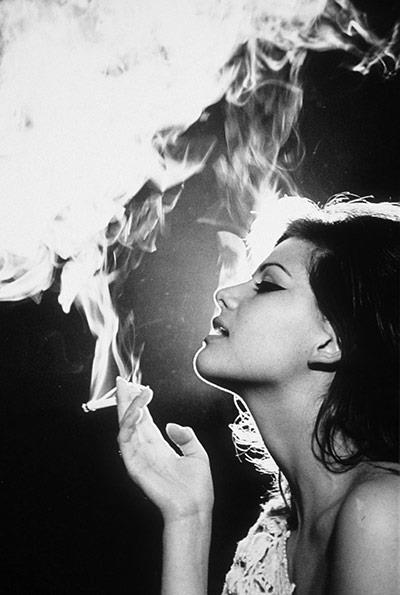cigarette: (71, 392, 143, 413)
